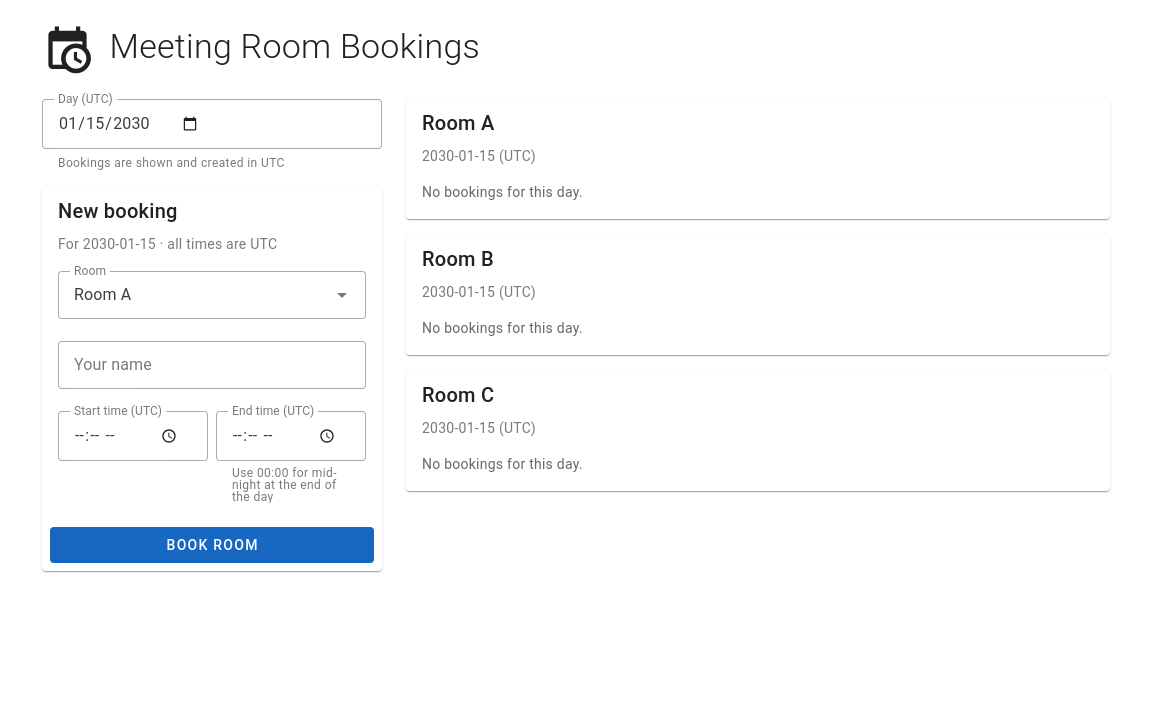
RoomBookings › shows the conflict message when the API rejects an overlapping booking
Type "2030-01-20" into the date field named "selectedDate" at (212, 124), box [42,99,382,149]
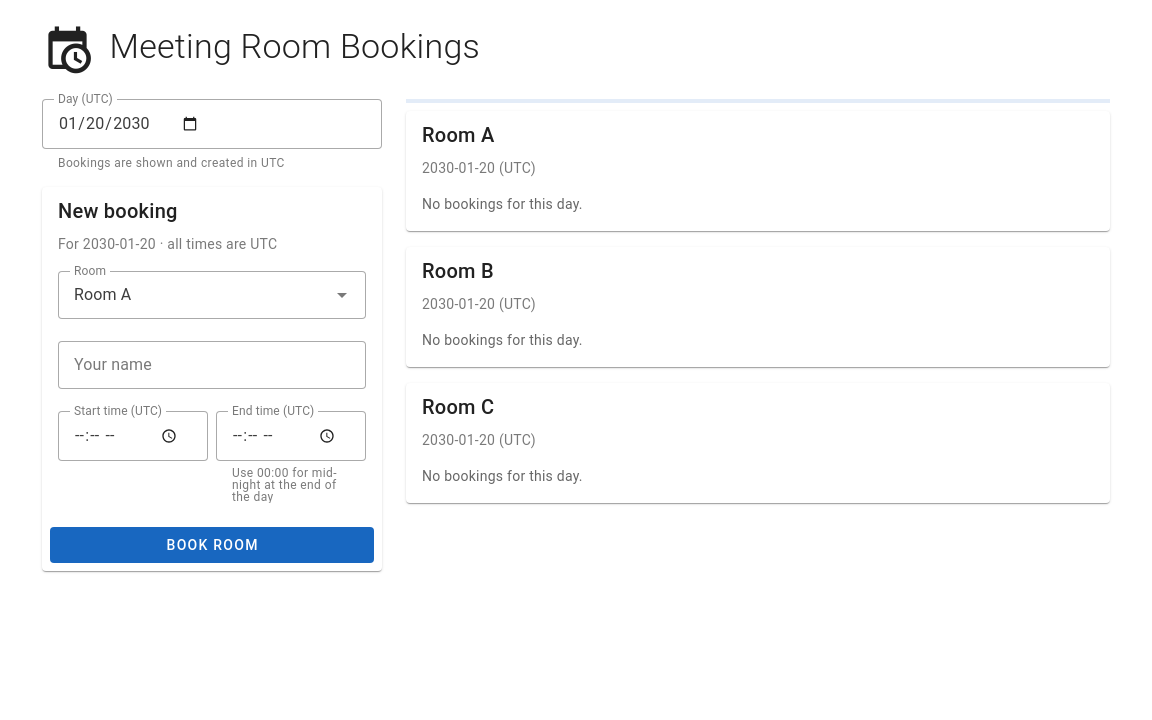
Type "Bob" into the field named "bookedBy" at (212, 365), box [58,341,366,389]
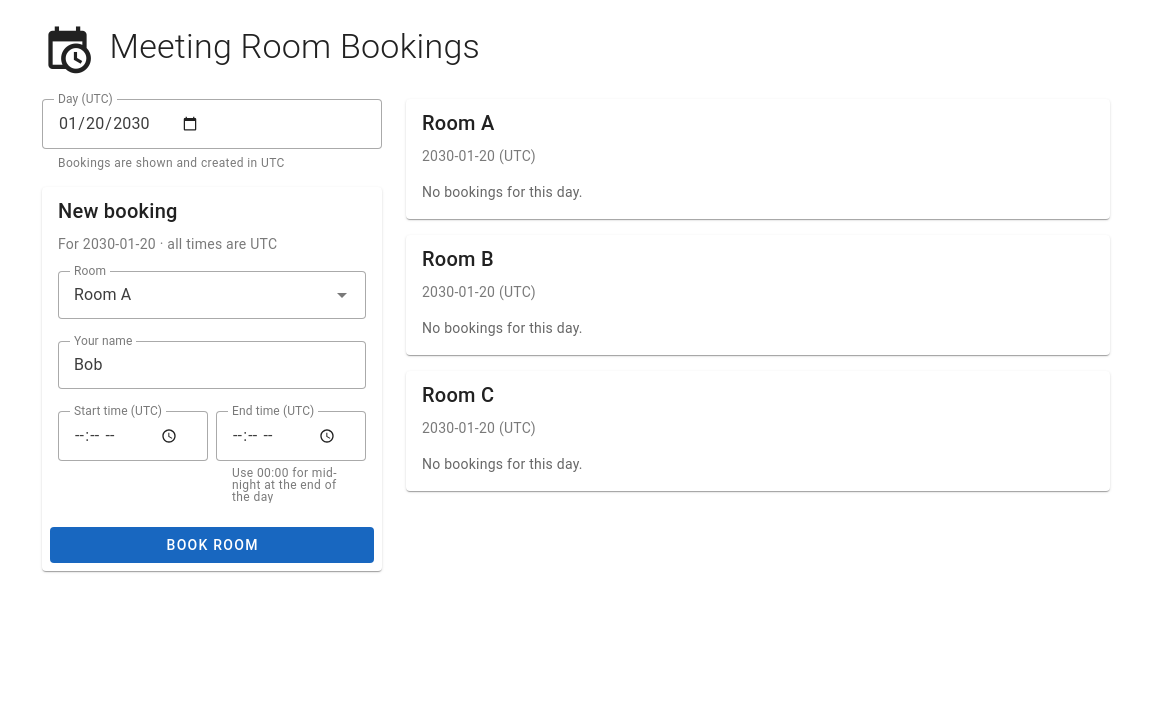
Type "10:30" into the time field named "startTime" at (133, 436), box [58,411,208,461]
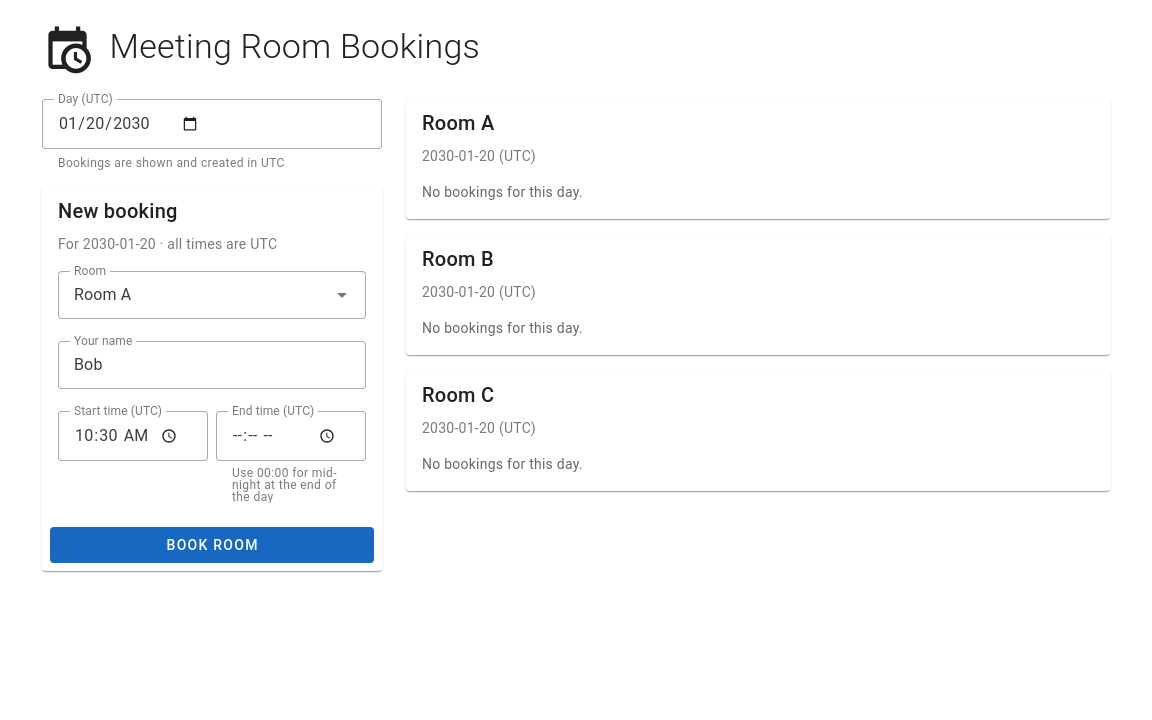
Type "11:30" into the time field named "endTime" at (291, 436), box [216,411,366,461]
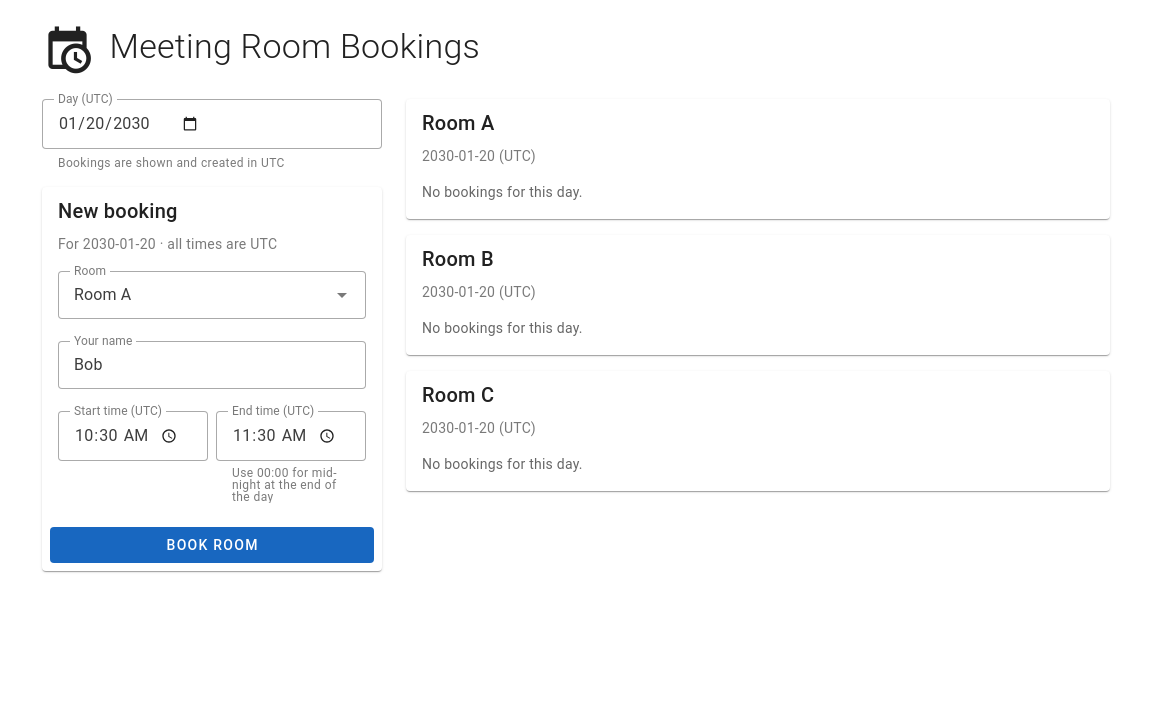
Submit the form, box [42,255,382,571]
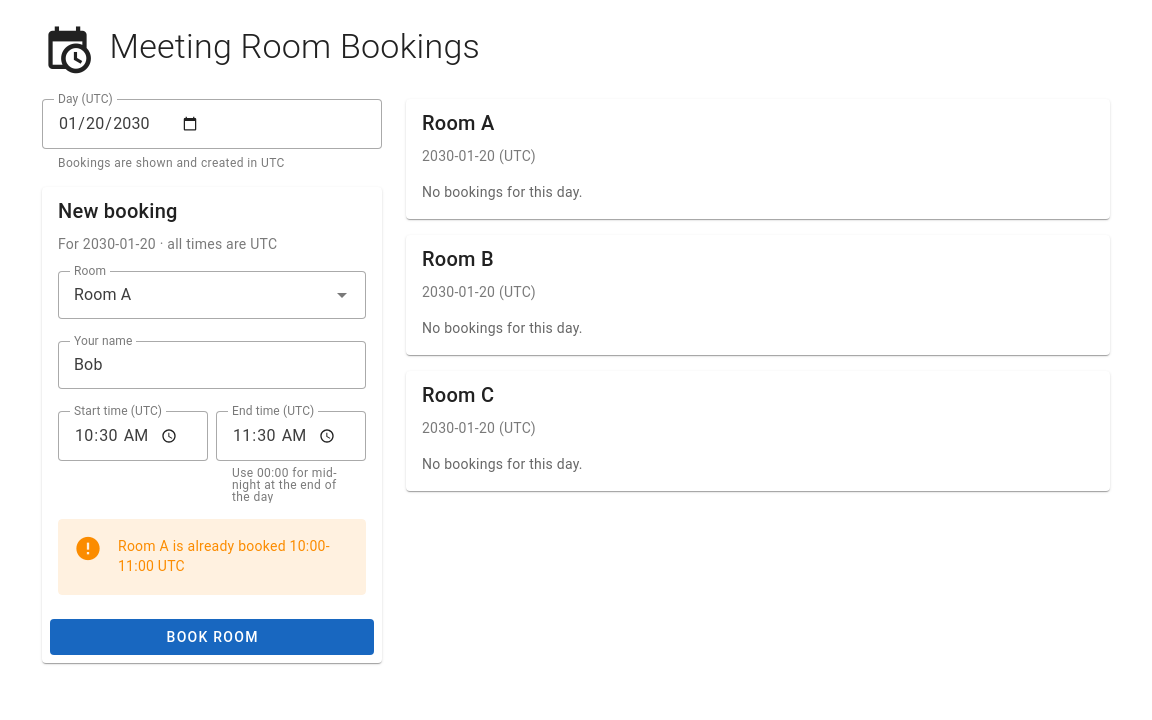
Now the message with test id "conflict-message" reads "Room A is already booked 10:00-11:00 UTC", box [118,538,330,574]
